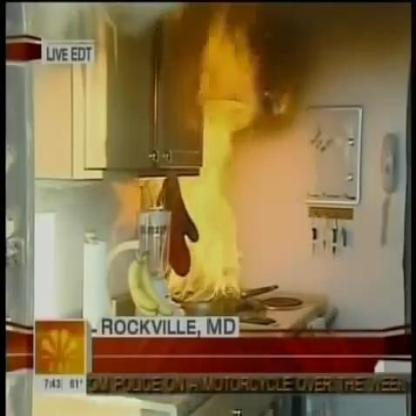fire: (151, 8, 265, 302)
